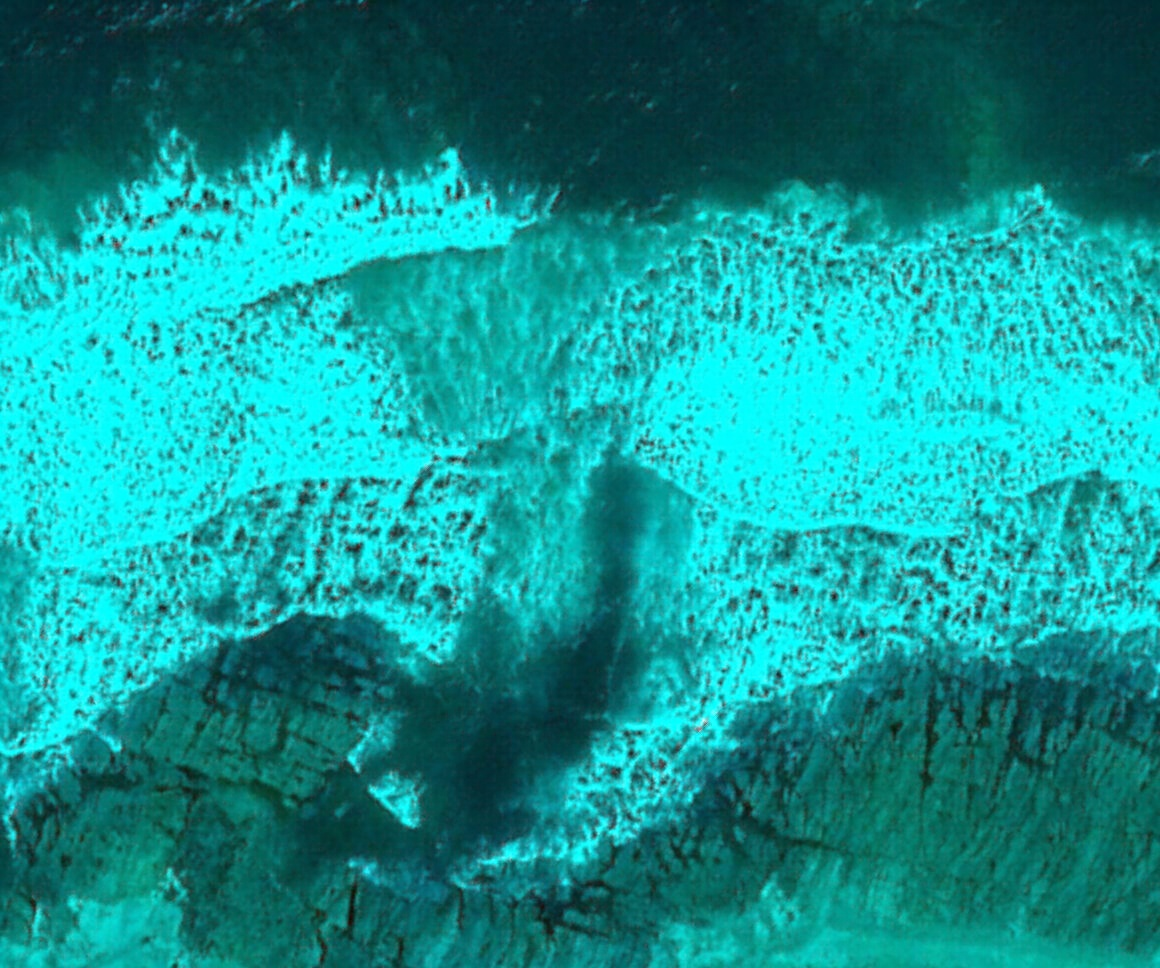rip_current: (363, 202, 714, 822)
